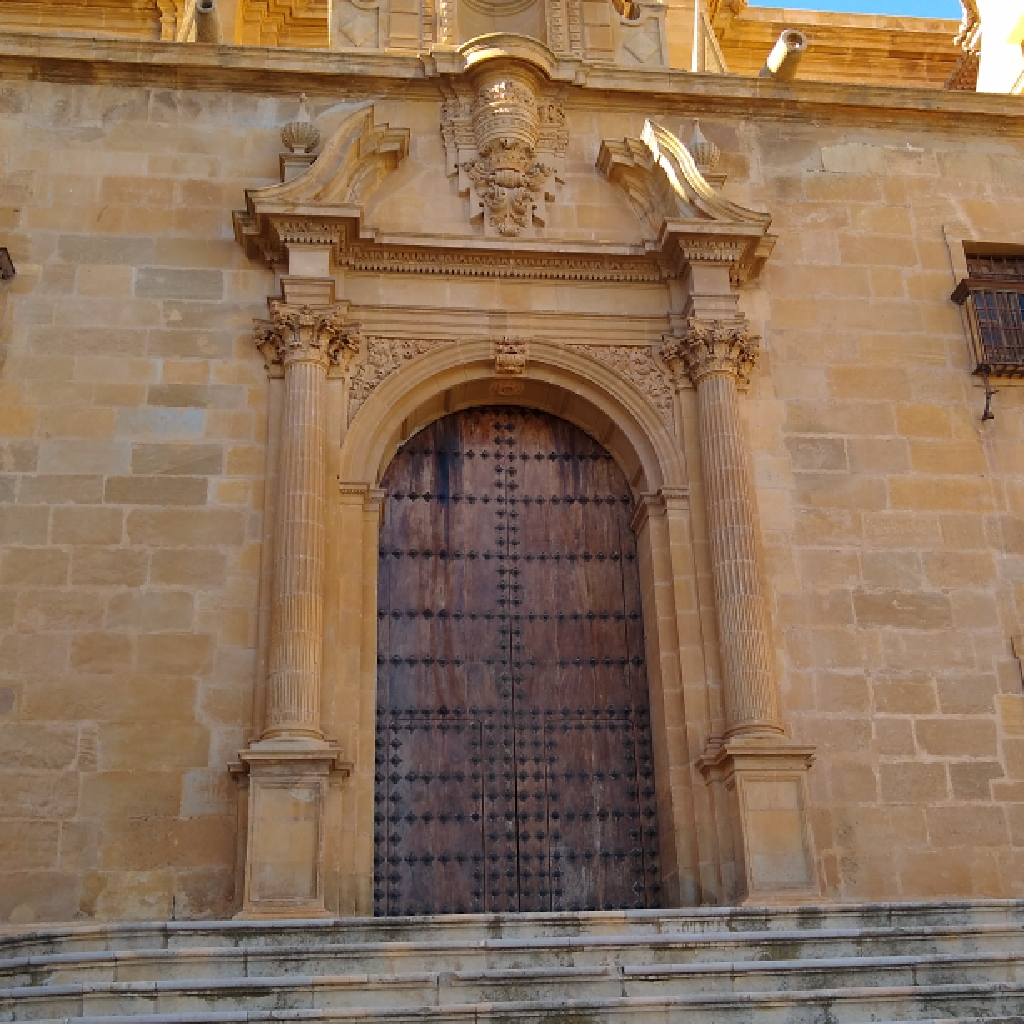arco-medio-punto: (350, 355, 664, 545)
fronton-partido: (229, 120, 783, 247)
